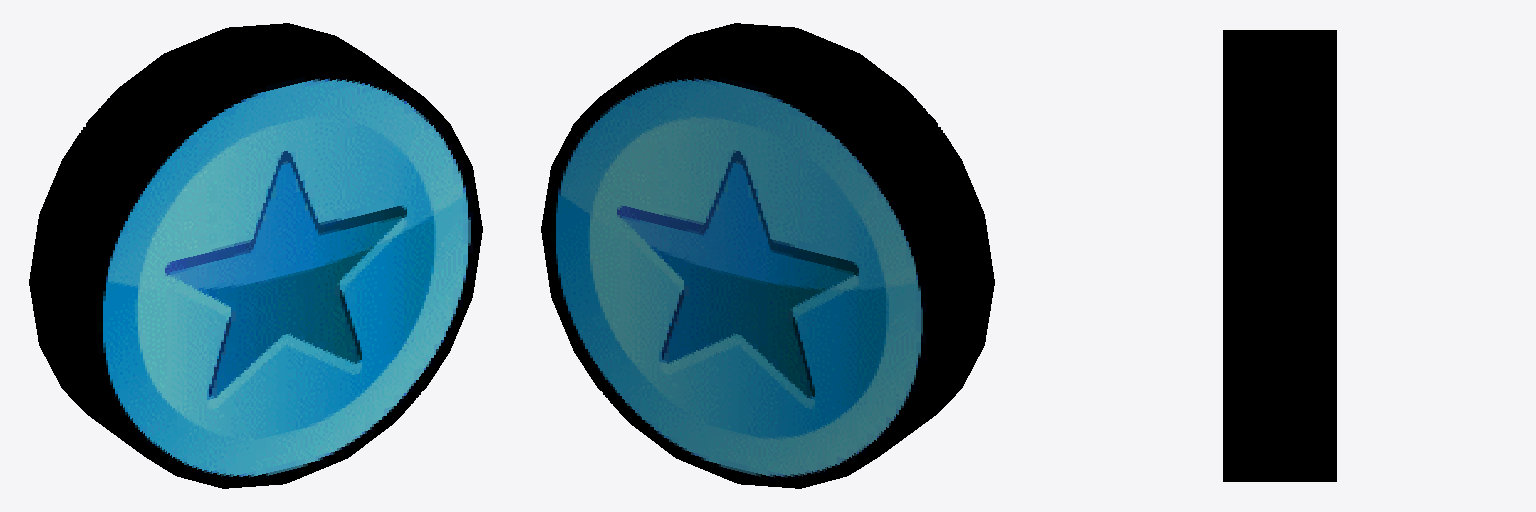
3 views of the same model, side by side, from view 1: azimuth 30°, elevation 25°; view 2: azimuth 150°, elevation 25°; view 3: azimuth 270°, elevation 25° (orthographic).
Visible parts, largest first — view 1: Blue2, Blue1, Blue3; view 2: Blue3, Blue1, Blue2; view 3: Blue1.
Part boxes in pixels (x1,y1,x2,y2): Blue2: (88,67,482,488); Blue1: (30,24,431,462); Blue3: (29,23,361,403); Blue3: (541,67,935,488); Blue1: (592,24,993,462); Blue2: (662,23,994,403); Blue1: (1223,30,1336,481).
Bounding box in the file's own units: 4 × 4 × 1.04.
2 materials, 1 textured.